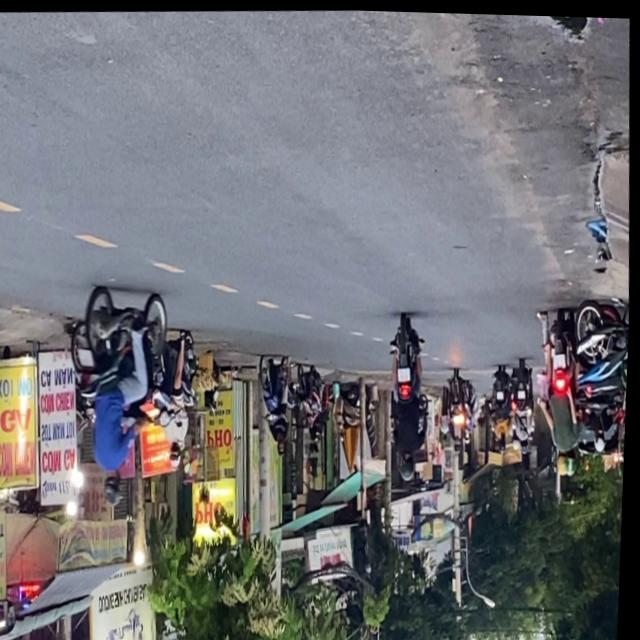helmet: (102, 469, 124, 507), (400, 452, 417, 480), (169, 441, 184, 468), (558, 448, 572, 473), (565, 447, 579, 472)
licenseplate: (66, 277, 178, 511), (536, 302, 591, 475), (383, 311, 434, 480), (148, 324, 204, 470)
nohelmet: (77, 348, 95, 365), (554, 350, 567, 365), (399, 365, 411, 379)
